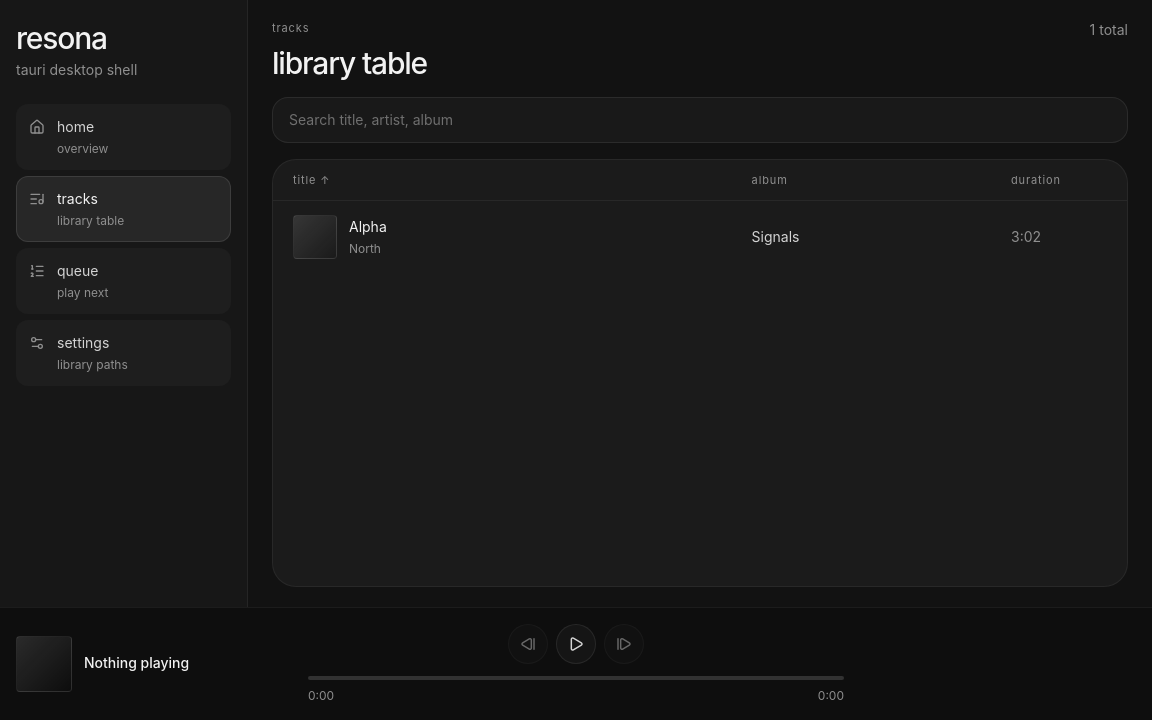
Test: app shell smoke checks › keeps the latest tracks query result when search requests overlap
Type "alpha" into the field with placeholder "Search title, artist, album" at x=700, y=120, box x1=272 y1=96 x2=1128 y2=142
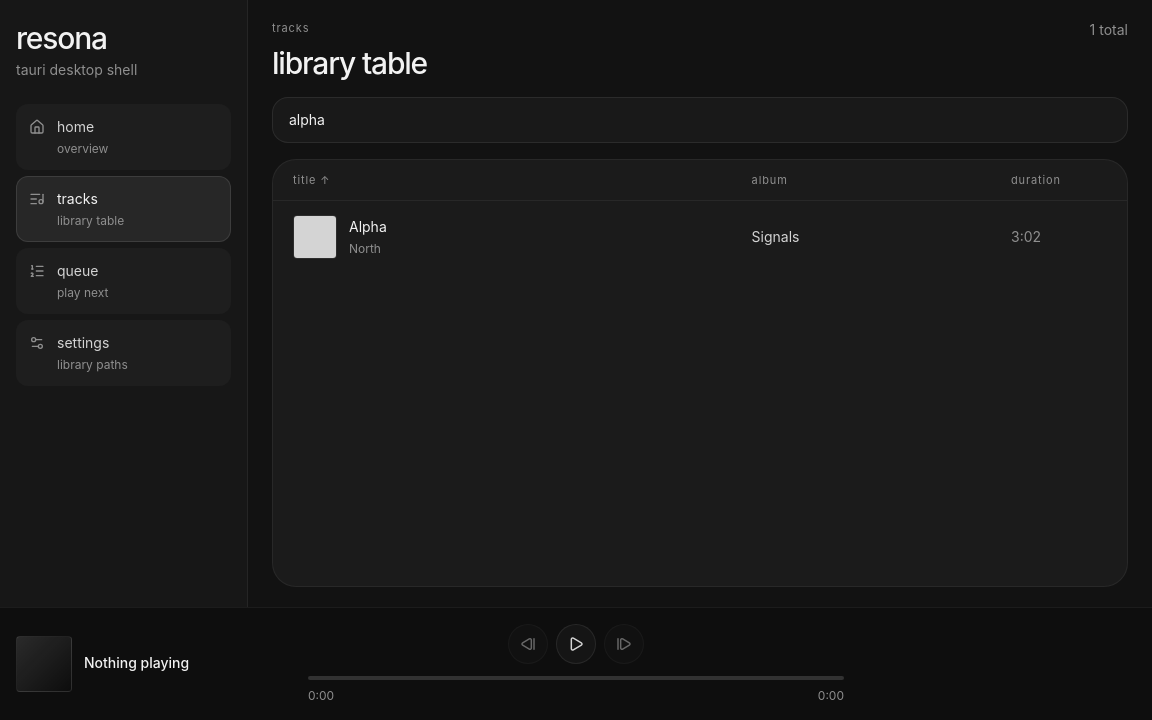
Press Enter in the field with placeholder "Search title, artist, album", box x1=272 y1=96 x2=1128 y2=142
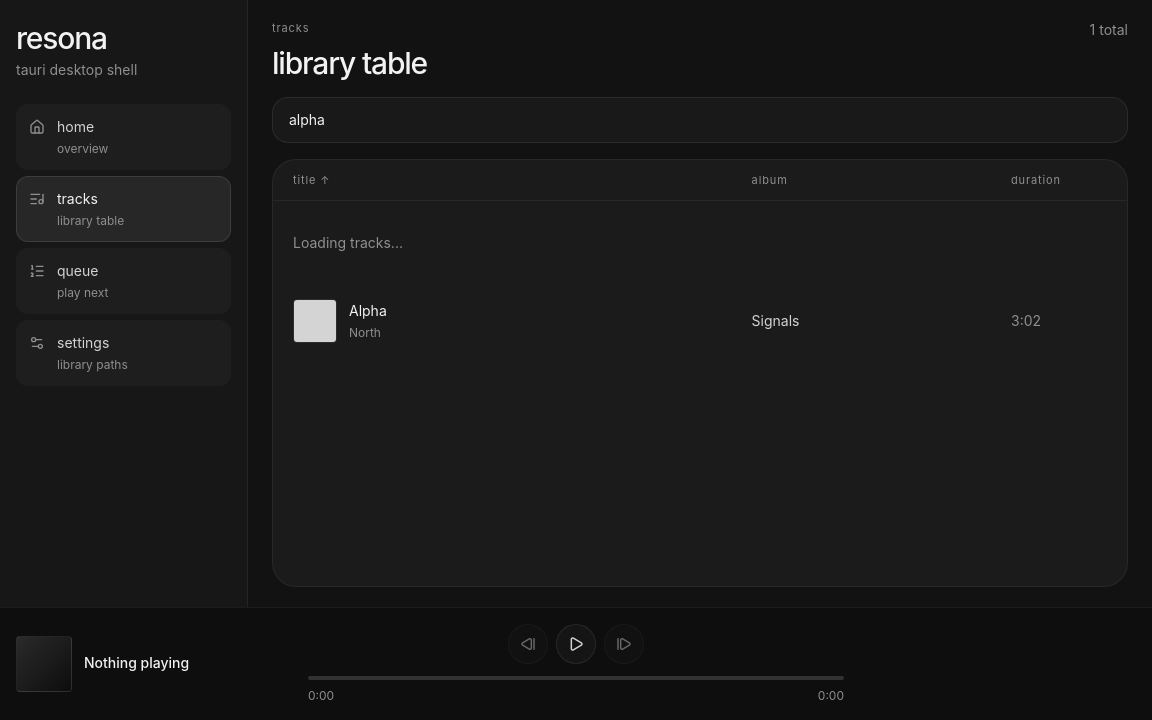
Replace the text in the field with placeholder "Search title, artist, album" with "bravo" at x=700, y=120, box x1=272 y1=96 x2=1128 y2=142
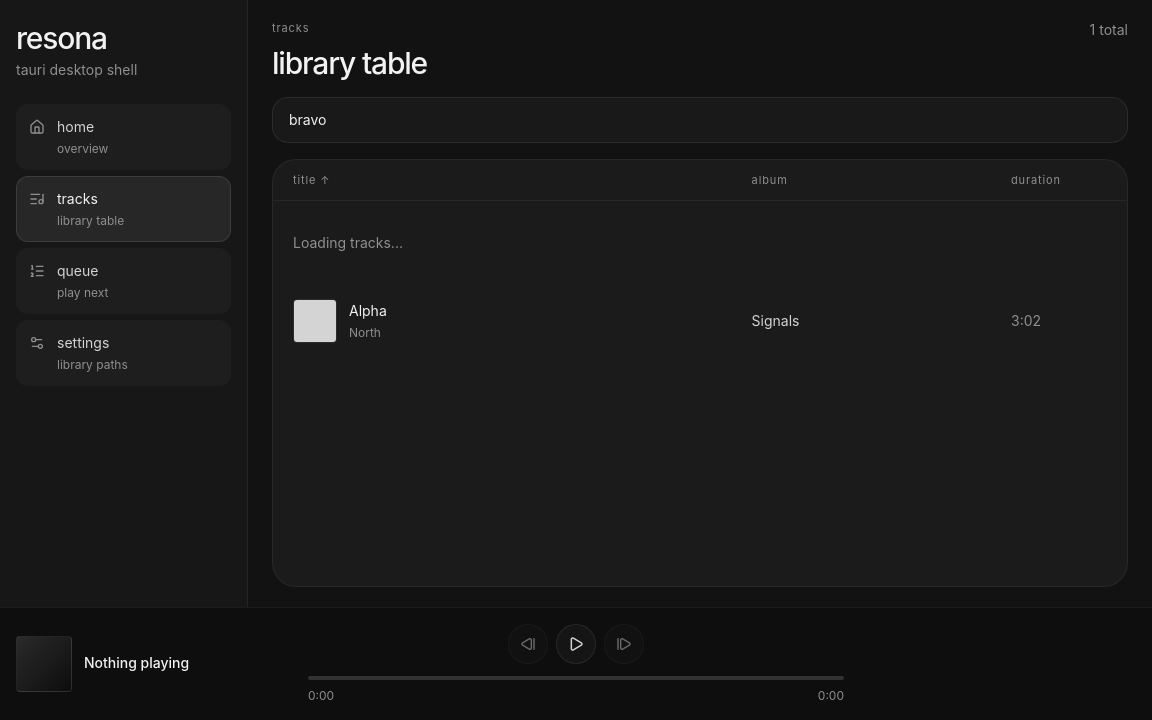
Press Enter in the field with placeholder "Search title, artist, album", box x1=272 y1=96 x2=1128 y2=142
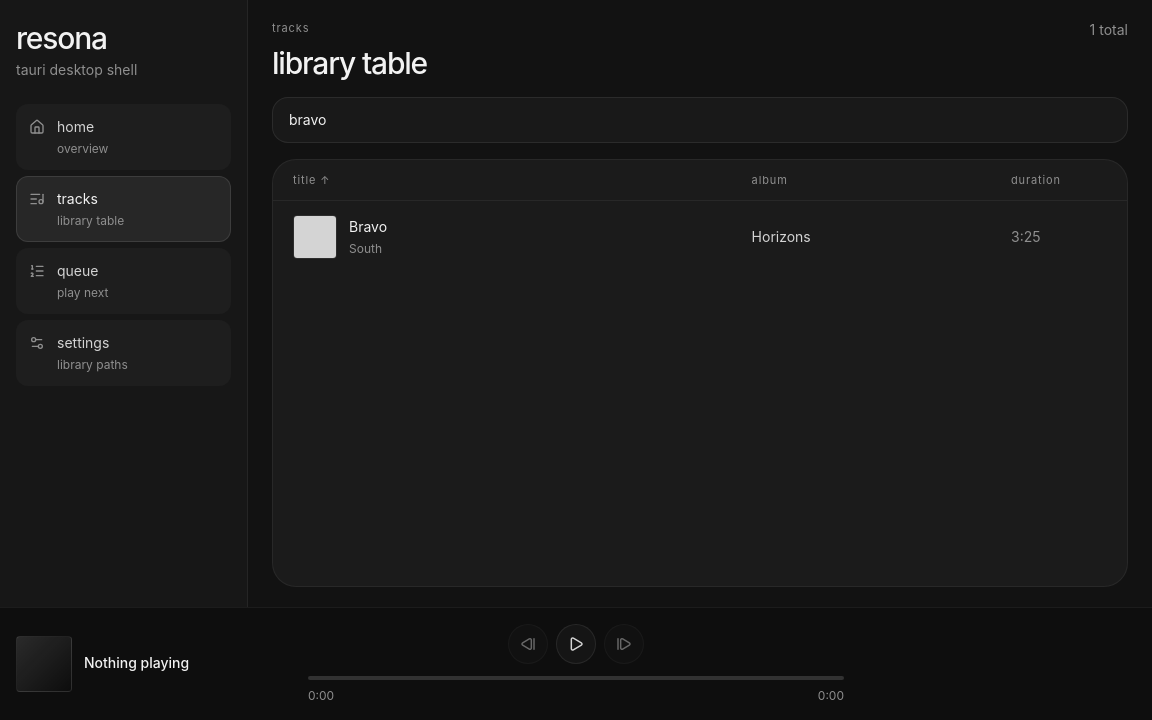
Expected: the text "Bravo" is shown, x1=349 y1=217 x2=387 y2=237
Expected: the button "Alpha" is gone
